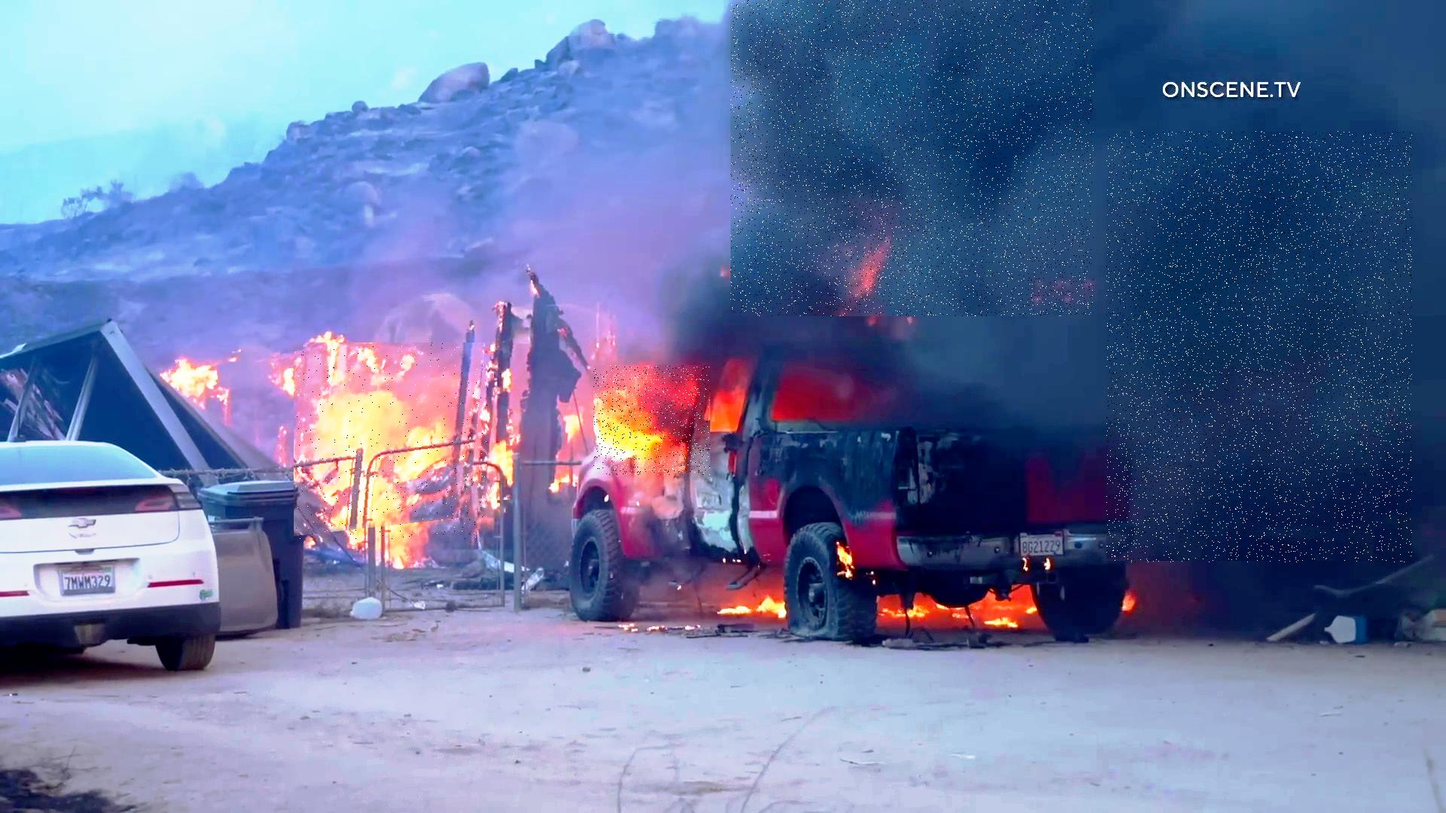fire: (294, 343, 487, 540), (593, 366, 710, 476)
smoke: (1106, 132, 1412, 563), (731, 0, 1094, 316)
